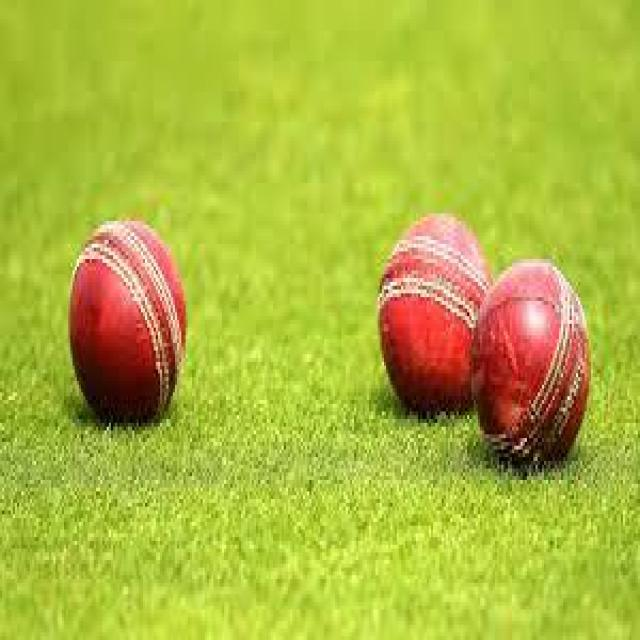ball: (474, 263, 595, 480), (68, 217, 186, 423), (379, 221, 488, 423)
